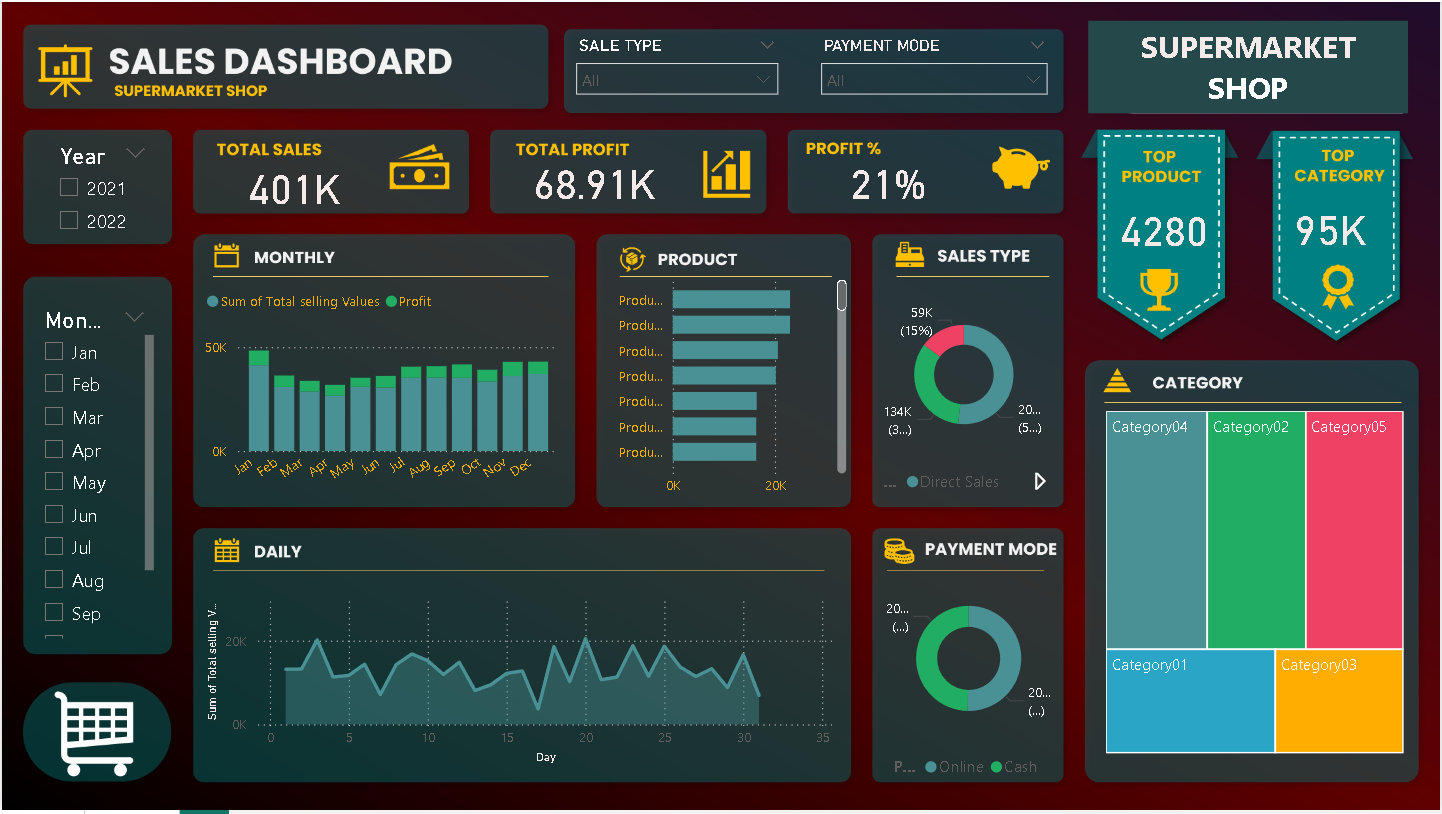

This screenshot's page, from the dashboard's own definition file:
{"tool":"powerbi","page":{"name":"Page 1","canvas":[1280,720],"ordinal":0},"visuals":[{"type":"slicer","fields":{"Values":["InputData.Year"]},"box":[38.4,120.8,101.5,94.7],"z":0},{"type":"slicer","fields":{"Values":["InputData.Month Name"]},"box":[25.7,265.7,114.3,305.7],"z":1000},{"type":"slicer","fields":{"Values":["InputData.PAYMENT MODE"]},"box":[719,26.1,222.3,68.6],"z":2000},{"type":"slicer","fields":{"Values":["InputData.SALE TYPE"]},"box":[500.9,26.1,200.3,72.7],"z":3000},{"type":"card","fields":{"Values":["Sum(InputData.Total selling Values)"]},"box":[1132.9,177.1,100,47.1],"z":4000},{"type":"card","fields":{"Values":["Sum(InputData.Total selling Values)"]},"box":[195.7,137.1,130,54.3],"z":5000},{"type":"card","fields":{"Values":["InputData.Profit %"]},"box":[718.6,121.4,140,77.1],"z":6000},{"type":"card","fields":{"Values":["InputData.Profit"]},"box":[438.6,125.7,178.6,68.6],"z":7000},{"type":"columnChart","fields":{"Category":["InputData.Month Name"],"Y":["Sum(InputData.Total selling Values)","InputData.Profit"]},"box":[177,247,323.8,199],"z":8000},{"type":"clusteredBarChart","fields":{"Y":["Sum(InputData.Total selling Values)"],"Category":["InputData.MasterData.PRODUCT"]},"box":[526.9,234.6,230.5,214.1],"z":9000},{"type":"areaChart","fields":{"Y":["Sum(InputData.Total selling Values)"],"Category":["InputData.Day"]},"box":[177.1,517.1,568.6,165.7],"z":10000},{"type":"donutChart","fields":{"Y":["Sum(InputData.Total selling Values)"],"Category":["InputData.SALE TYPE"]},"box":[779.4,247,155.1,199],"z":11000},{"type":"donutChart","fields":{"Y":["Sum(InputData.Total selling Values)"],"Category":["InputData.PAYMENT MODE"]},"box":[780,498.6,161.4,201.4],"z":12000},{"type":"treemap","fields":{"Group":["InputData.MasterData.CATEGORY"],"Values":["Sum(InputData.Total selling Values)"]},"box":[978.4,359.5,274.4,314.2],"z":13000},{"type":"textbox","box":[967.6,16.9,284.7,82],"z":14000},{"type":"card","fields":{"Values":["Sum(InputData.QUANTITY)"]},"box":[988.1,167.7,92.9,66.4],"z":15000}]}

Visuals, with their boxes in screenshot pixels (x1, y1, x2, y2), scaled from the page's 1280x720 canvas onto the 1442x814 screenshot:
slicer - InputData.Year: 43 137 158 244
slicer - InputData.Month Name: 29 300 158 646
slicer - InputData.PAYMENT MODE: 810 30 1060 107
slicer - InputData.SALE TYPE: 564 30 790 112
card - Sum(InputData.Total selling Values): 1276 200 1389 253
card - Sum(InputData.Total selling Values): 220 155 367 216
card - InputData.Profit %: 810 137 967 224
card - InputData.Profit: 494 142 695 220
columnChart - InputData.Month Name x Sum(InputData.Total selling Values): 199 279 564 504
clusteredBarChart - Sum(InputData.Total selling Values) x InputData.MasterData.PRODUCT: 594 265 853 507
areaChart - Sum(InputData.Total selling Values) x InputData.Day: 200 585 840 772
donutChart - Sum(InputData.Total selling Values) x InputData.SALE TYPE: 878 279 1053 504
donutChart - Sum(InputData.Total selling Values) x InputData.PAYMENT MODE: 879 564 1061 791
treemap - InputData.MasterData.CATEGORY x Sum(InputData.Total selling Values): 1102 406 1411 762
textbox: 1090 19 1411 112
card - Sum(InputData.QUANTITY): 1113 190 1218 265
